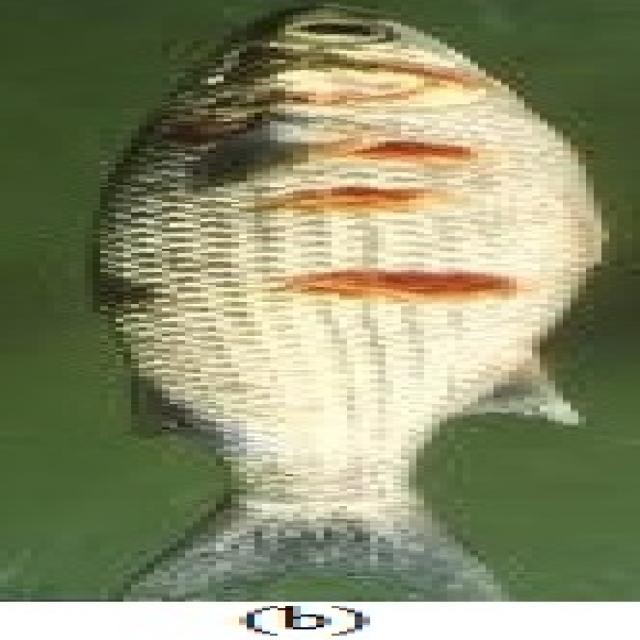EUS Disease: (102, 8, 599, 601), (122, 134, 598, 310)
